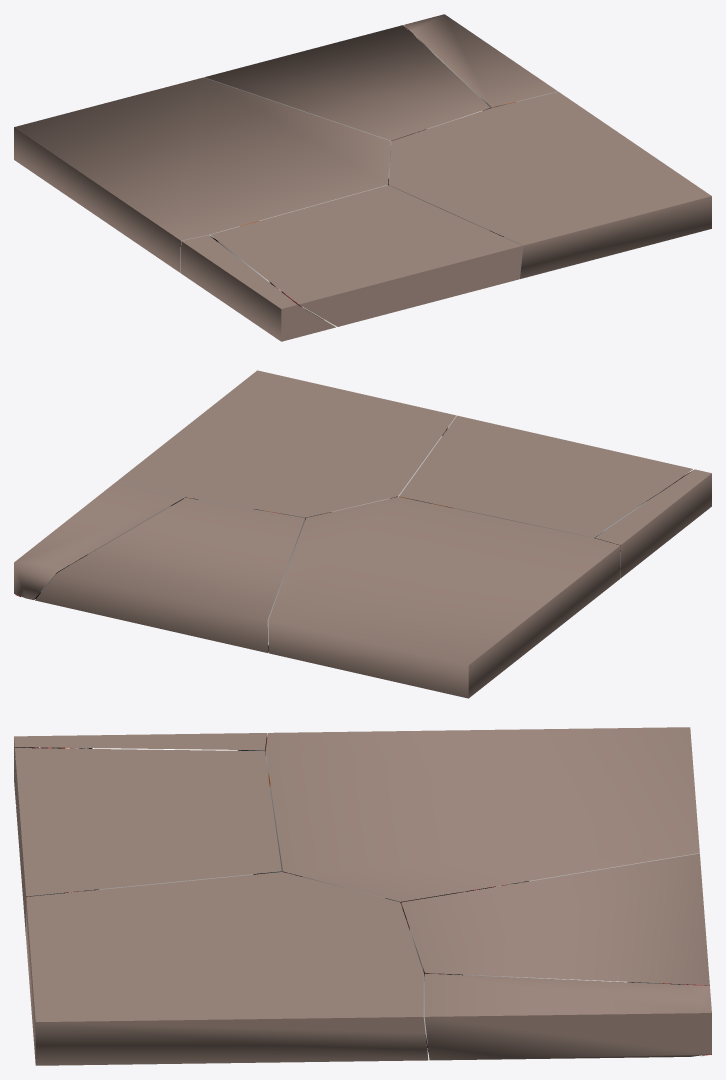
File: chair_mid_DEST.fbx
The picture shows the model from 3 angles, top to bottom: view 1: azimuth 30°, elevation 25°; view 2: azimuth 150°, elevation 25°; view 3: azimuth 270°, elevation 25°; orthographic projection. The views are drawn at different scales.
Visible parts, largest first — view 1: polySurface286_cell.006, polySurface286_cell, polySurface286_cell.001, polySurface286_cell.003, polySurface286_cell.002, polySurface286_cell.004; view 2: polySurface286_cell.006, polySurface286_cell, polySurface286_cell.003, polySurface286_cell.001, polySurface286_cell.004, polySurface286_cell.002; view 3: polySurface286_cell, polySurface286_cell.006, polySurface286_cell.001, polySurface286_cell.003, polySurface286_cell.004, polySurface286_cell.002.
Boxes of the visible parts, bbox=[...] form: polySurface286_cell.006: bbox=[14, 77, 390, 272]; polySurface286_cell: bbox=[389, 92, 711, 278]; polySurface286_cell.001: bbox=[210, 185, 522, 326]; polySurface286_cell.003: bbox=[204, 25, 490, 149]; polySurface286_cell.002: bbox=[180, 235, 335, 341]; polySurface286_cell.004: bbox=[404, 14, 558, 107]; polySurface286_cell.006: bbox=[268, 496, 620, 698]; polySurface286_cell: bbox=[118, 370, 456, 519]; polySurface286_cell.003: bbox=[35, 497, 304, 652]; polySurface286_cell.001: bbox=[399, 415, 692, 537]; polySurface286_cell.004: bbox=[14, 481, 184, 599]; polySurface286_cell.002: bbox=[593, 469, 711, 578]; polySurface286_cell: bbox=[26, 872, 428, 1065]; polySurface286_cell.006: bbox=[265, 727, 699, 903]; polySurface286_cell.001: bbox=[15, 748, 281, 935]; polySurface286_cell.003: bbox=[401, 853, 709, 985]; polySurface286_cell.004: bbox=[424, 973, 711, 1060]; polySurface286_cell.002: bbox=[14, 733, 267, 812].
Bounding box in the file's own units: 1.35 × 0.0932 × 1.35.
